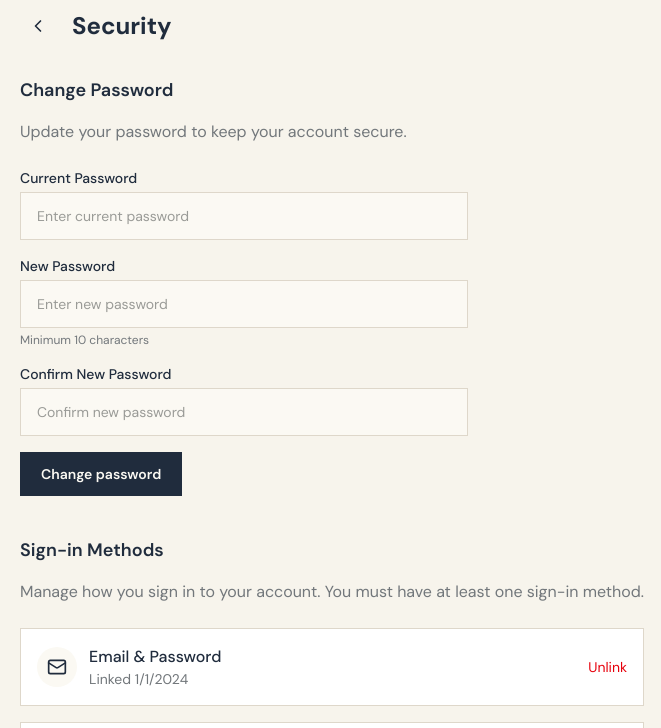
Scenario: SecurityPage › validates password match
Type "oldpassword" into the password field labelled "Current Password" at (244, 216), box x1=20 y1=192 x2=468 y2=240
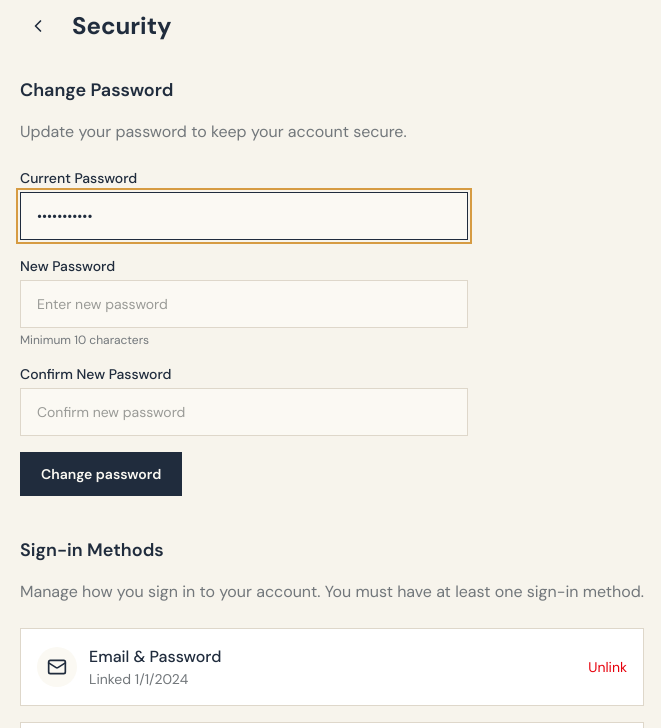
Type "newpassword123" into the password field labelled "New Password" at (244, 304), box x1=20 y1=280 x2=468 y2=328
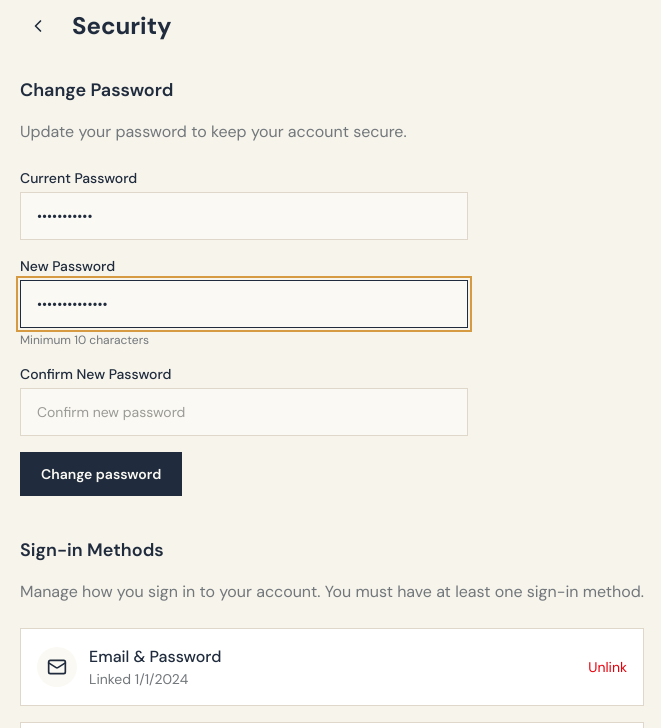
Type "differentpassword" into the password field labelled "Confirm New Password" at (244, 412), box x1=20 y1=388 x2=468 y2=436
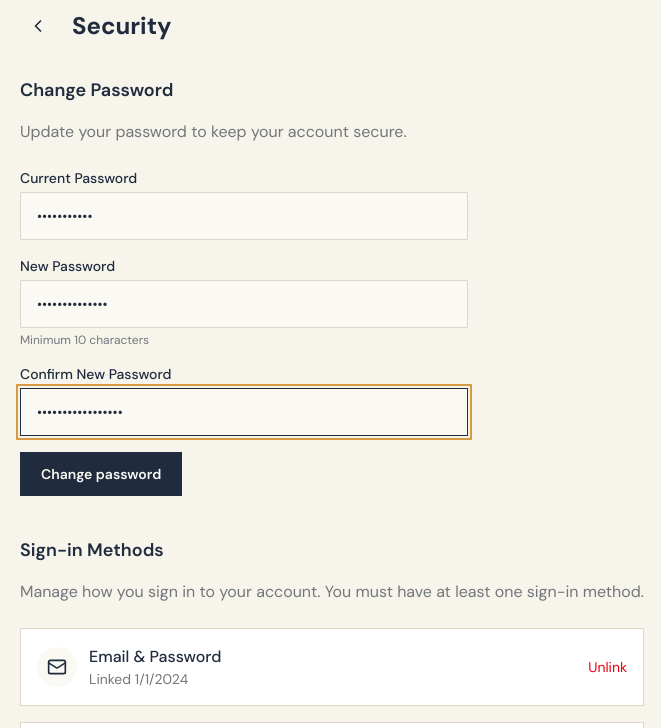
Click the button "Change password" at (101, 474), box x1=20 y1=452 x2=182 y2=496
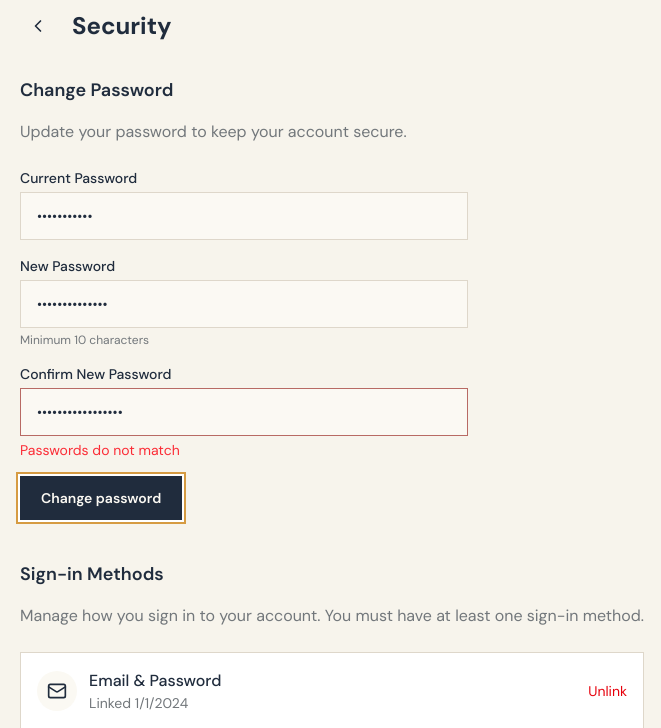
Now the text "Passwords do not match" is shown, box x1=20 y1=441 x2=180 y2=459
